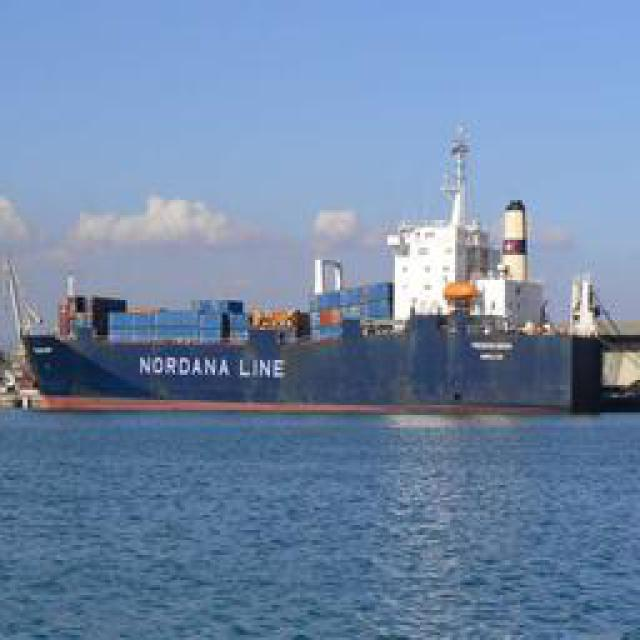Ship: (18, 133, 640, 429)
